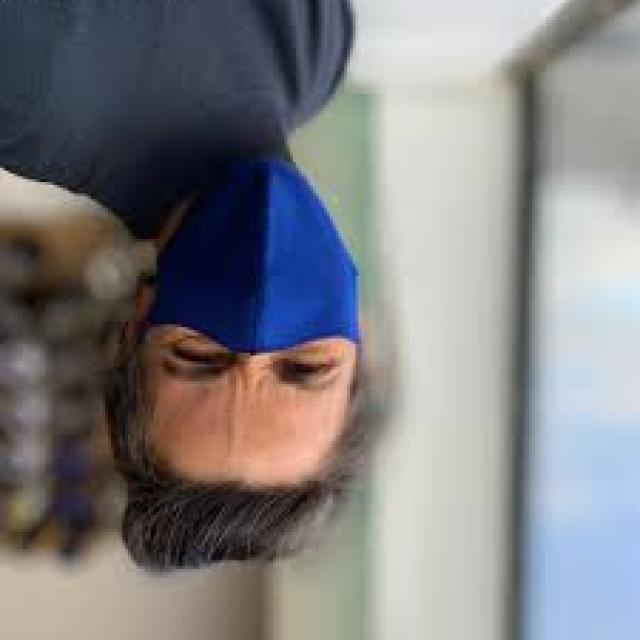Mask: (143, 152, 365, 377)
